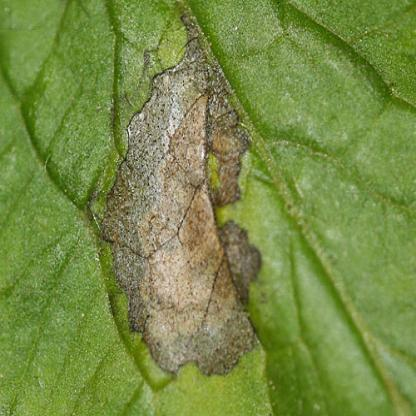potato leaf late blight: (2, 1, 415, 410)
